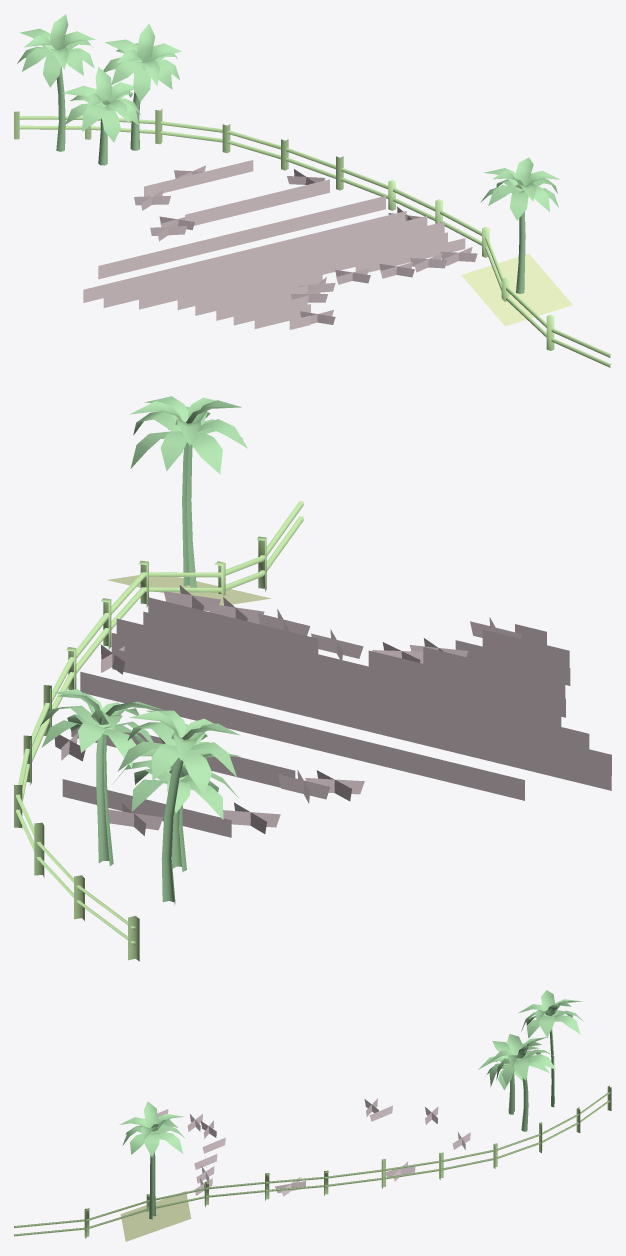
3 views of the same model, one above another, from view 1: azimuth 30°, elevation 25°; view 2: azimuth 150°, elevation 25°; view 3: azimuth 270°, elevation 25° (orthographic). The views are drawn at different scales.
Parts seen in each view (by area): view 1: 2-8_skeleton; view 2: 2-8_skeleton; view 3: 2-8_skeleton.
Boxes of the visible parts, left/top/right/bottom form: 2-8_skeleton: left=14, top=14, right=611, bottom=367; 2-8_skeleton: left=14, top=396, right=611, bottom=961; 2-8_skeleton: left=14, top=990, right=611, bottom=1241.
Size of the model in its own units: 1651 by 704 by 2569.
